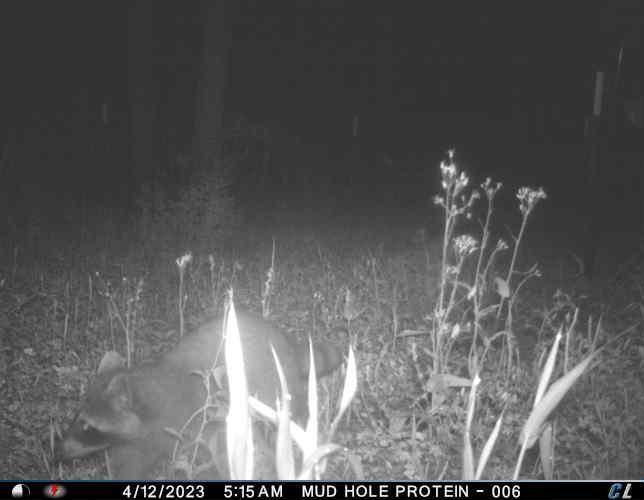Raccoon: (56, 311, 351, 481)
